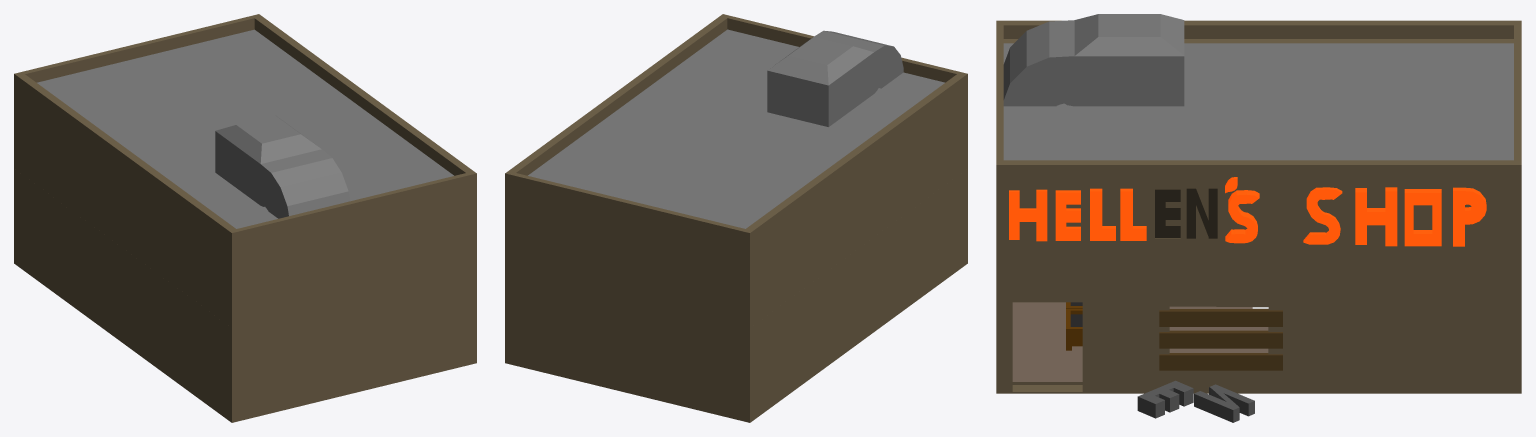
The model's file is shop.fbx.
3 renders of one model, left to right at view 1: azimuth 30°, elevation 25°; view 2: azimuth 150°, elevation 25°; view 3: azimuth 270°, elevation 25°, orthographic. The views are drawn at different scales.
Visible parts, largest first — view 1: Cube.001; view 2: Cube.001; view 3: Cube.001, Cube.006.
Part boxes in pixels (<box>): Cube.001: <box>14,14,476,422</box>; Cube.001: <box>505,14,967,422</box>; Cube.001: <box>996,14,1521,422</box>; Cube.006: <box>1066,302,1082,350</box>.
Size of the model in its own units: 2861 by 2014 by 3433.
